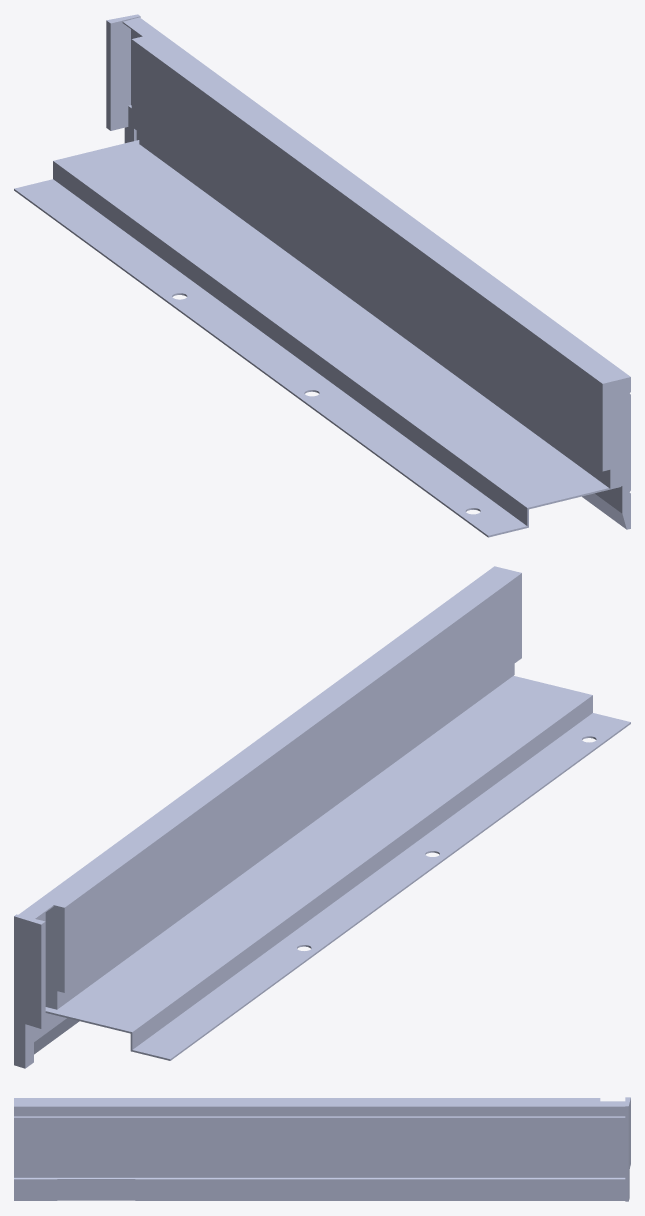
Rendered from lg-kava-N400-m.glb.
3 renders of one model, top to bottom at view 1: azimuth 30°, elevation 25°; view 2: azimuth 150°, elevation 25°; view 3: azimuth 270°, elevation 25°, orthographic. The views are drawn at different scales.
Visible parts, largest first — view 1: 49014424; view 2: 49014424; view 3: 49014424.
Part boxes in pixels (x1,y1,x2,y2): 49014424: (14, 14, 630, 537); 49014424: (14, 566, 630, 1068); 49014424: (14, 1097, 630, 1201).
Bounding box in the file's own units: 0.0653 × 0.0672 × 0.3935.
